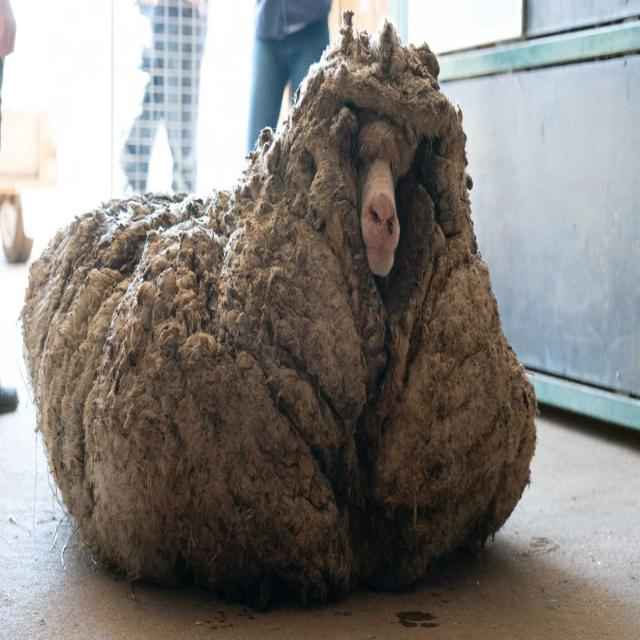sheep: (21, 13, 536, 604)
